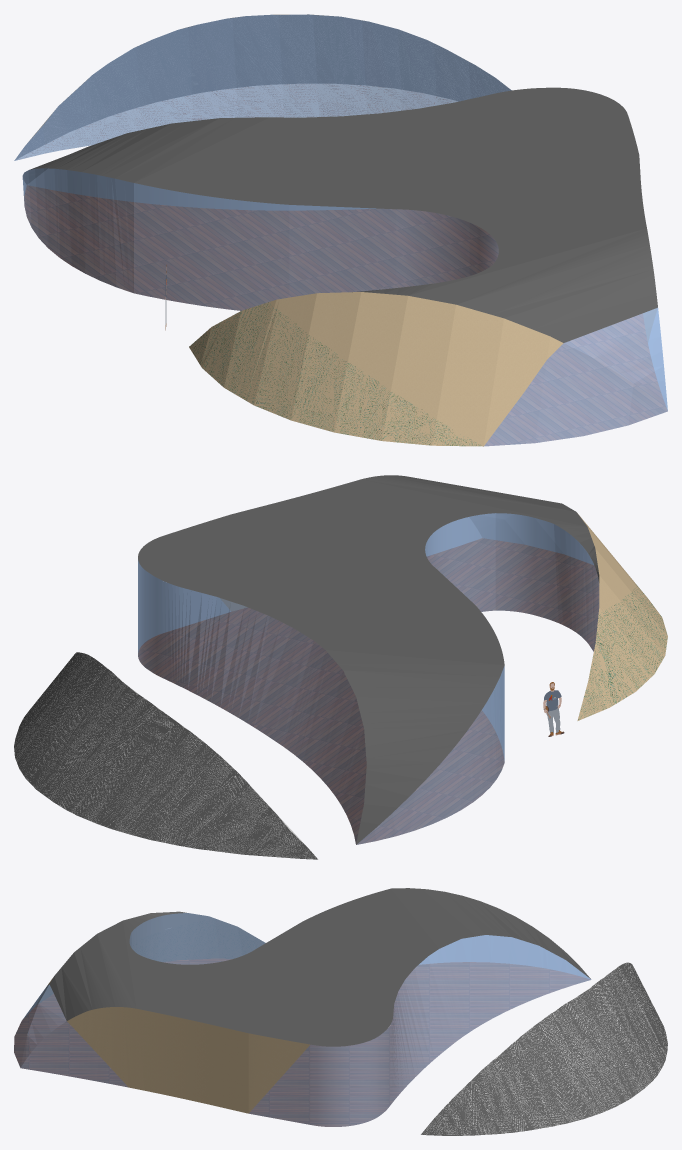
Rendered from artCentre.glb.
3 renders of one model, top to bottom at view 1: azimuth 30°, elevation 25°; view 2: azimuth 150°, elevation 25°; view 3: azimuth 270°, elevation 25°, orthographic. The views are drawn at different scales.
Visible parts, largest first — view 1: SketchUp.022, SketchUp.030, SketchUp.017, SketchUp, SketchUp.003, SketchUp.027, SketchUp.026, SketchUp.028, SketchUp.029, SketchUp.019; view 2: SketchUp.022, SketchUp.030, SketchUp.003, SketchUp.019, SketchUp.017, SketchUp.026, SketchUp.028, SketchUp.027; view 3: SketchUp.022, SketchUp.030, SketchUp.019, SketchUp.003, SketchUp.018, SketchUp.017, SketchUp.028, SketchUp.026, SketchUp.027.
Boxes of the visible parts, box(x1,y1,x2,y2) form: SketchUp.022: box(23, 87, 657, 342); SketchUp.030: box(24, 185, 667, 445); SketchUp.017: box(22, 168, 498, 310); SketchUp: box(14, 14, 511, 160); SketchUp.003: box(15, 15, 510, 159); SketchUp.027: box(269, 292, 563, 446); SketchUp.026: box(189, 302, 483, 446); SketchUp.028: box(484, 307, 667, 446); SketchUp.029: box(17, 84, 457, 159); SketchUp.019: box(28, 169, 367, 209); SketchUp.022: box(138, 475, 599, 844); SketchUp.030: box(138, 538, 598, 844); SketchUp.003: box(14, 652, 317, 859); SketchUp.019: box(138, 560, 366, 844); SketchUp.017: box(356, 513, 599, 844); SketchUp.026: box(577, 583, 667, 720); SketchUp.028: box(425, 513, 593, 564); SketchUp.027: box(577, 513, 636, 613); SketchUp.022: box(49, 888, 590, 1046); SketchUp.030: box(14, 959, 589, 1126); SketchUp.019: box(249, 935, 591, 1126); SketchUp.003: box(421, 962, 667, 1135); SketchUp.018: box(67, 1007, 309, 1113); SketchUp.017: box(129, 913, 589, 978); SketchUp.028: box(14, 984, 128, 1087); SketchUp.026: box(40, 919, 264, 1002); SketchUp.027: box(36, 913, 213, 1004).
Size of the model in its own units: 16.15 by 3.43 by 25.16.
20 materials, 3 textured.
